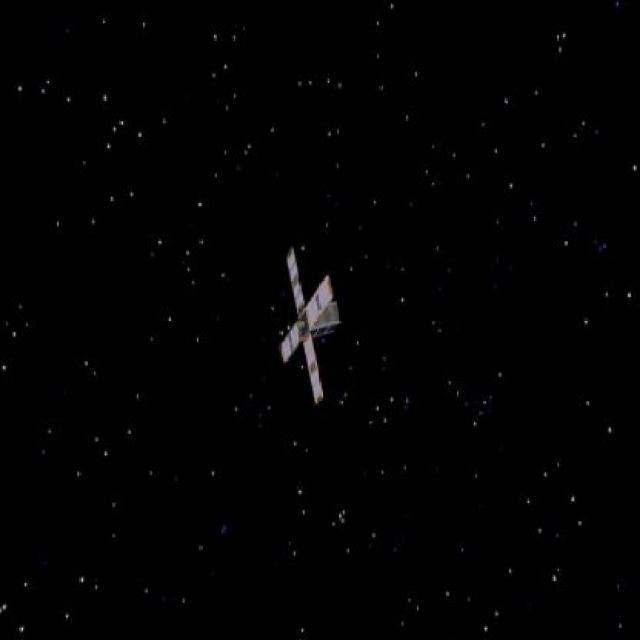satellite: (261, 242, 344, 408)
